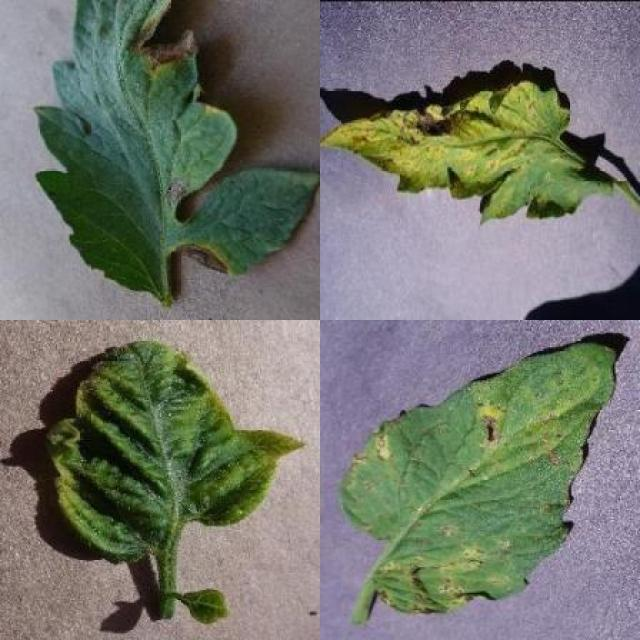Early Blight: (33, 0, 320, 294)
Septoria: (341, 342, 616, 614), (320, 80, 613, 223)
Yellow Leaf Curl Virus: (46, 339, 307, 566)
